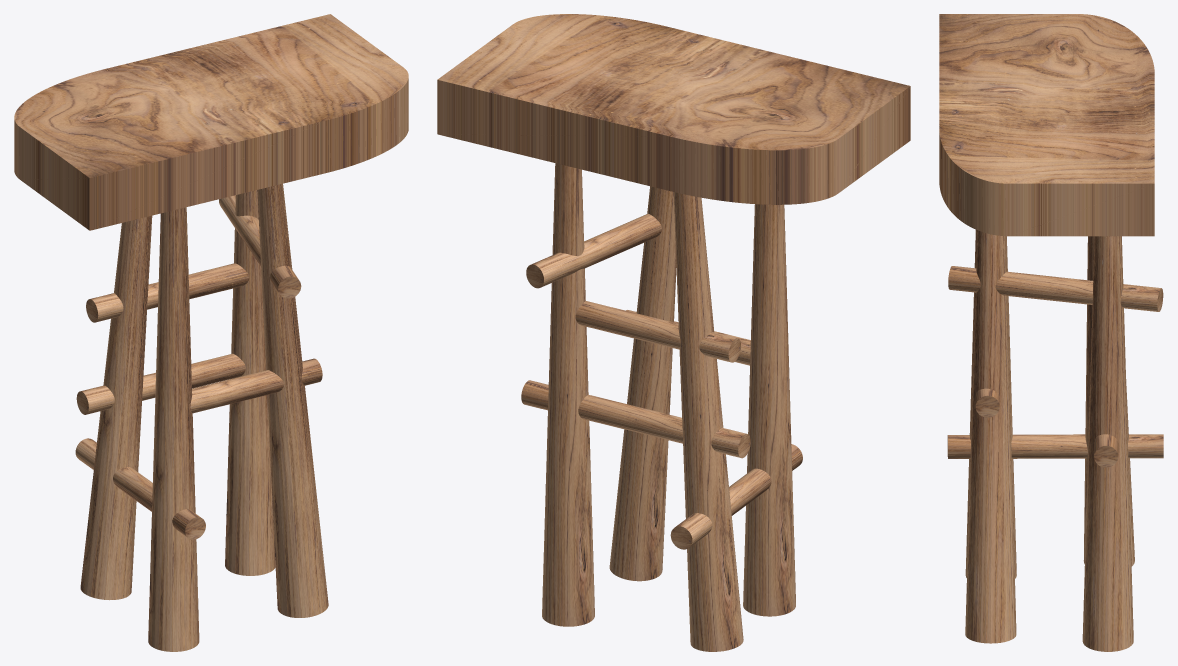
The model's file is project-09.glb.
The picture shows the model from 3 angles, left to right: view 1: azimuth 30°, elevation 25°; view 2: azimuth 150°, elevation 25°; view 3: azimuth 270°, elevation 25°; orthographic projection. The views are drawn at different scales.
Visible parts, largest first — view 1: Plane, leg 3, leg 2, leg 4, Circle.002, Cylinder, Cylinder.001, Cylinder.003, Cylinder.004, Cylinder.002; view 2: Plane, Circle.002, leg 4, leg 3, leg 2, Cylinder.003, Cylinder.001, Cylinder.002, Cylinder.004; view 3: Plane, Circle.002, leg 2, Cylinder.002, Cylinder.004, leg 4, leg 3, Cylinder.003, Cylinder.
Boxes of the visible parts, x1,y1,x2,y2 form: Plane: (14, 14, 408, 230); leg 3: (148, 207, 199, 651); leg 2: (257, 183, 328, 617); leg 4: (80, 215, 152, 600); Circle.002: (225, 190, 275, 575); Cylinder: (190, 358, 322, 413); Cylinder.001: (86, 263, 249, 322); Cylinder.003: (76, 353, 245, 414); Cylinder.004: (75, 438, 205, 539); Cylinder.002: (219, 195, 301, 298); Plane: (437, 14, 910, 204); Circle.002: (542, 163, 594, 626); leg 4: (673, 192, 743, 651); leg 3: (743, 204, 795, 616); leg 2: (609, 186, 676, 581); Cylinder.003: (521, 380, 750, 458); Cylinder.001: (575, 301, 740, 362); Cylinder.002: (526, 214, 661, 288); Cylinder.004: (670, 444, 802, 549); Plane: (939, 14, 1154, 236); Circle.002: (1082, 236, 1133, 651); leg 2: (965, 230, 1016, 643); Cylinder.002: (948, 266, 1163, 311); Cylinder.004: (947, 434, 1163, 458); leg 4: (1083, 236, 1134, 566); leg 3: (965, 230, 1016, 578); Cylinder.003: (1094, 434, 1118, 467); Cylinder: (975, 388, 999, 417).
Size of the model in its own units: 52 by 72.51 by 29.05.
10 materials, 10 textured.
